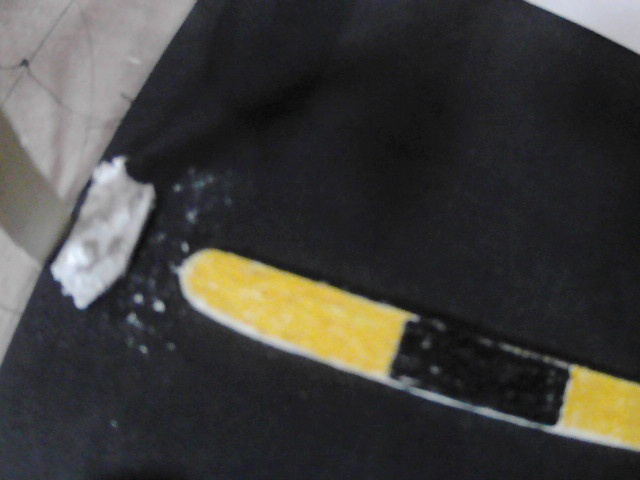black_strip: (392, 318, 566, 413)
mixed_lane: (180, 248, 630, 447)
yellow_strip: (180, 249, 411, 374), (561, 369, 640, 444)
